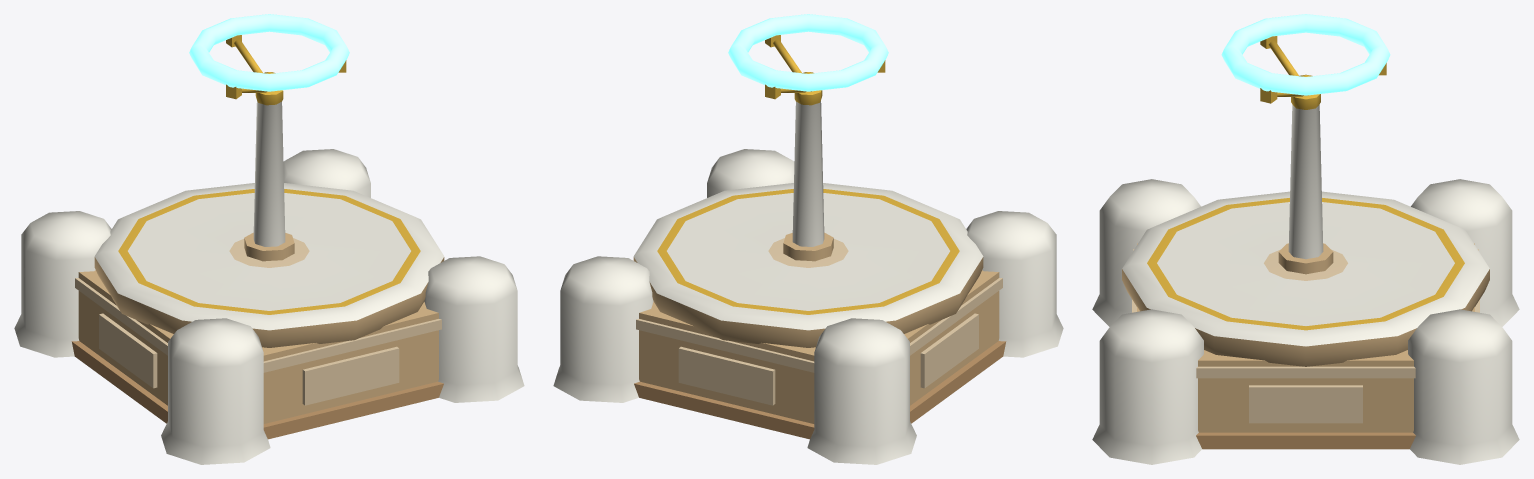
Rendered from drone-hub.lod1.glb.
The picture shows the model from 3 angles, left to right: view 1: azimuth 30°, elevation 25°; view 2: azimuth 150°, elevation 25°; view 3: azimuth 270°, elevation 25°; orthographic projection. The views are drawn at different scales.
Visible parts, largest first — view 1: drone-hub_lod1; view 2: drone-hub_lod1; view 3: drone-hub_lod1.
Part boxes in pixels (x1,y1,x2,y2): drone-hub_lod1: [14, 14, 524, 464]; drone-hub_lod1: [553, 14, 1063, 464]; drone-hub_lod1: [1092, 14, 1519, 464].
Bounding box in the file's own units: 1.72 × 1.46 × 1.72.
